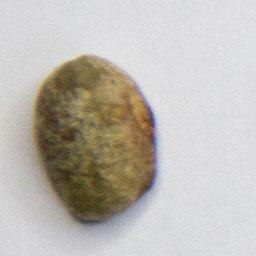defect: (29, 53, 160, 228)
